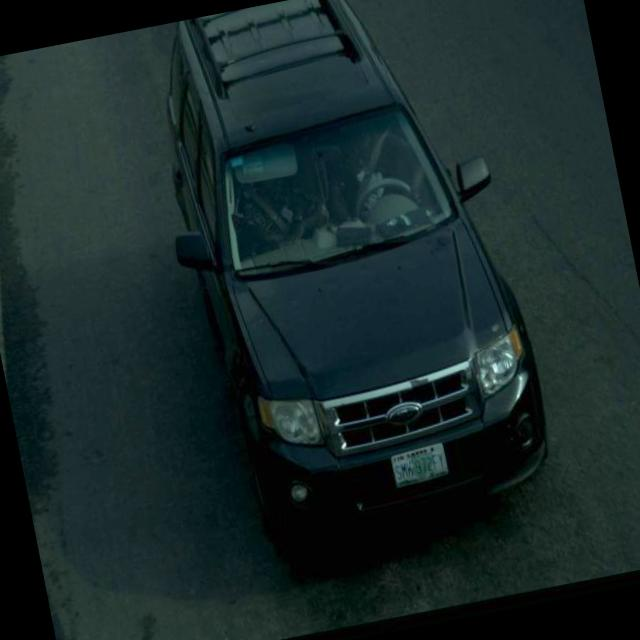person_with_seatbelt: (313, 102, 436, 226)
